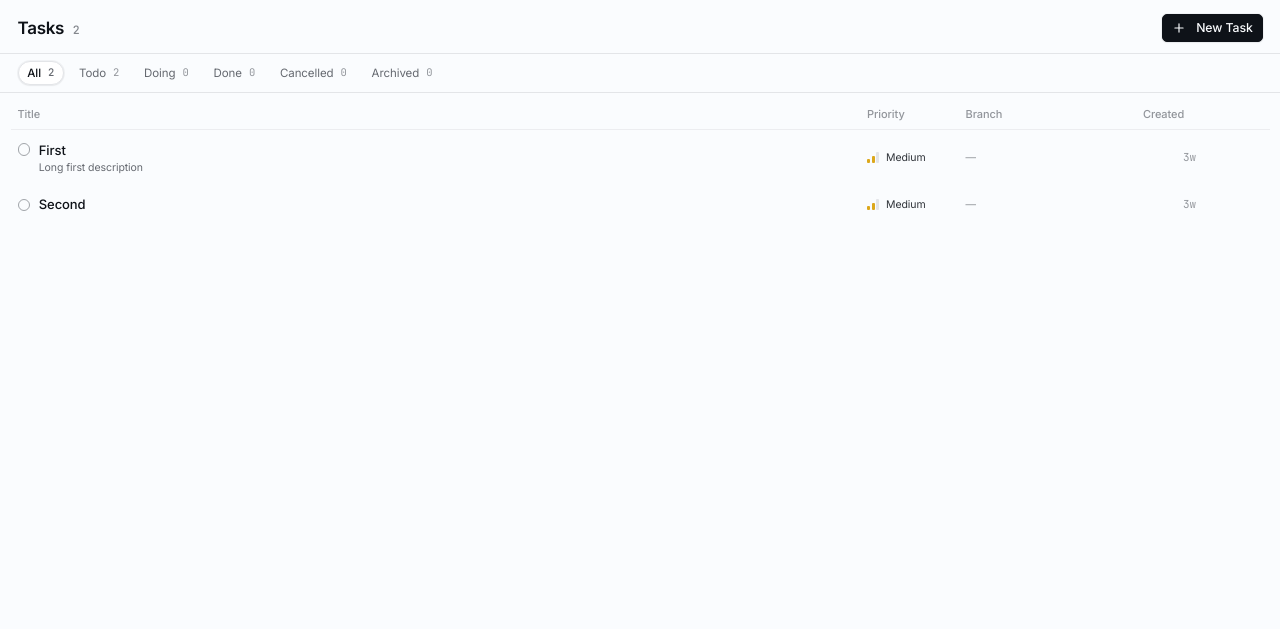
Test case: TasksView detail panel › drops the description preview from rows while the panel is open
Expected: the row "First Long first description Medium — 3w" is shown, x1=10 y1=135 x2=1270 y2=181
Click the row "Second Medium — 3w": (62, 204) x1=18 y1=194 x2=1196 y2=215
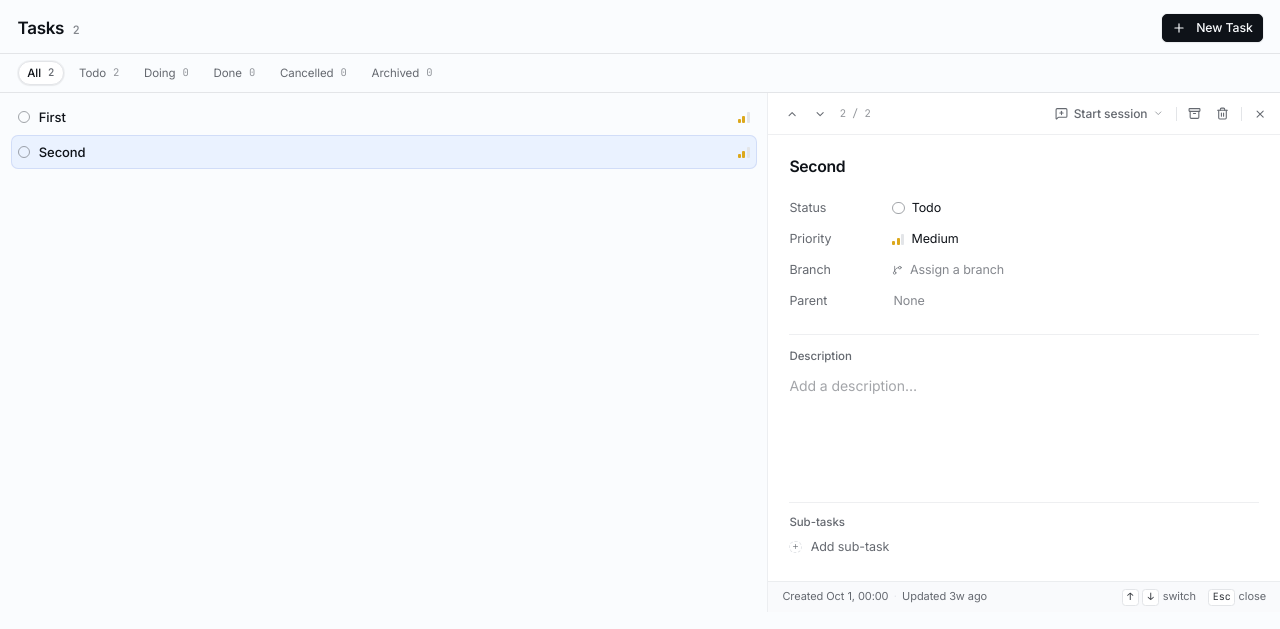
Result: the text "Long first description" is gone
